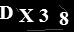3: (38, 8, 48, 23)
8: (58, 12, 69, 26)
D: (1, 5, 14, 20)
X: (18, 8, 34, 23)
